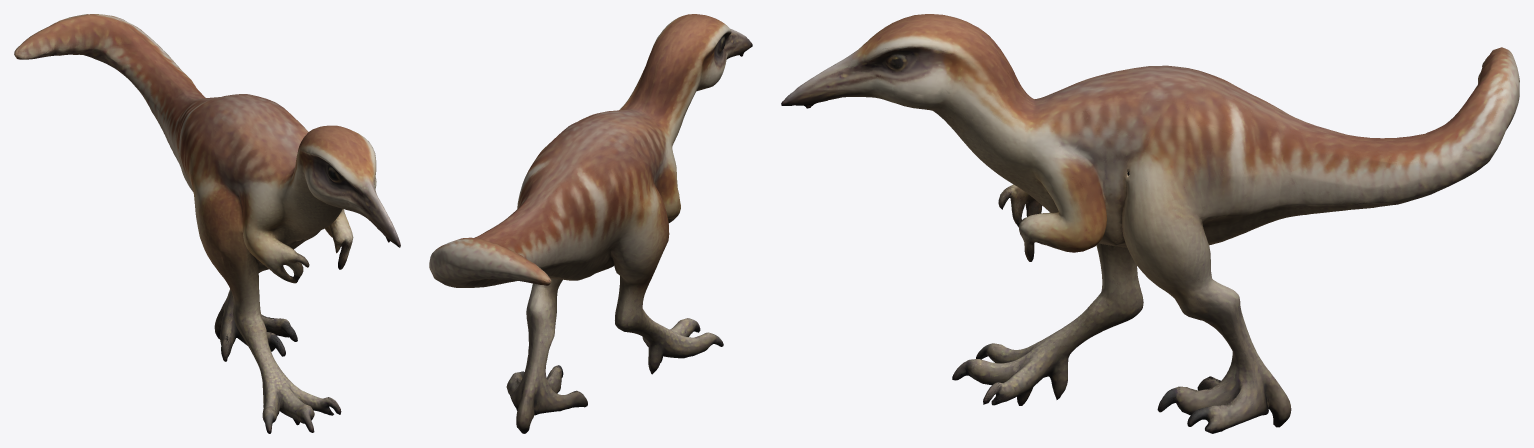
3 renders of one model, left to right at view 1: azimuth 30°, elevation 25°; view 2: azimuth 150°, elevation 25°; view 3: azimuth 270°, elevation 25°, orthographic. The views are drawn at different scales.
Visible parts, largest first — view 1: world; view 2: world; view 3: world.
Boxes of the visible parts, x1=… form: world: x1=14, y1=14, x2=400, y2=433; world: x1=429, y1=14, x2=752, y2=433; world: x1=781, y1=14, x2=1519, y2=433.
Size of the model in its own units: 0.2312 by 0.4394 by 0.75.
Materials: 1 (1 with a texture image).
